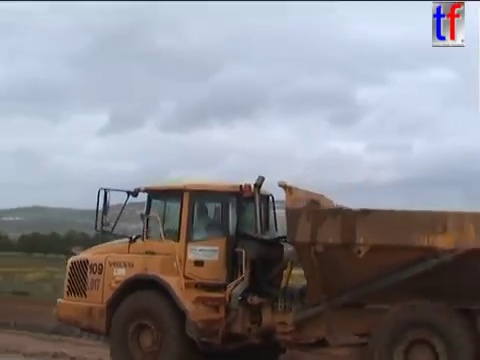truck: (53, 172, 480, 360)
